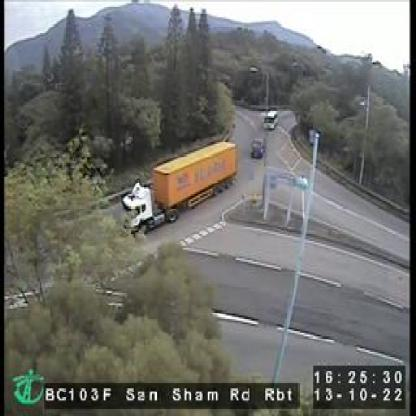Car: (251, 137, 267, 159), (263, 110, 277, 132)
Truck: (124, 139, 236, 239)
